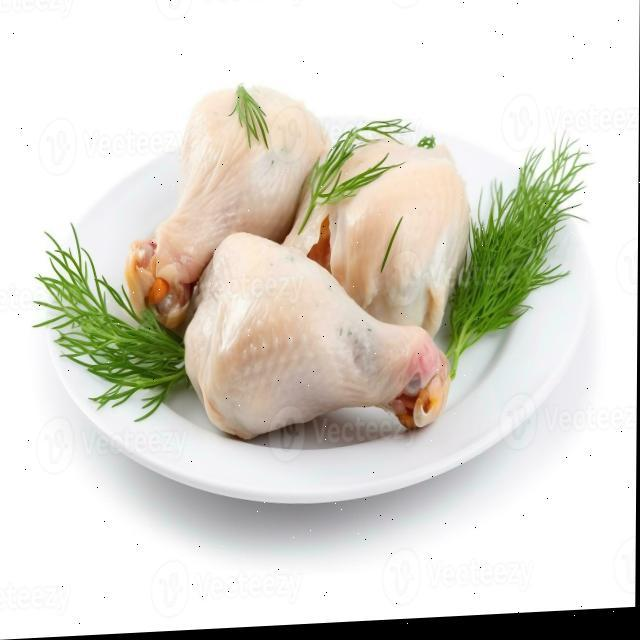leg: (186, 228, 439, 468), (124, 78, 320, 318)
